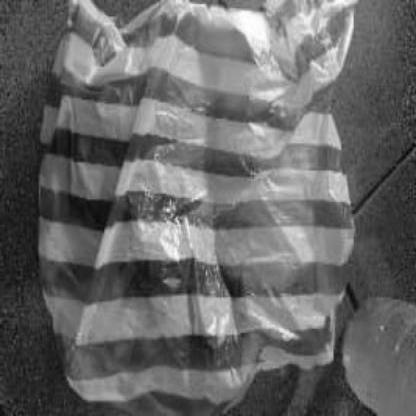objects: (34, 0, 354, 416)
